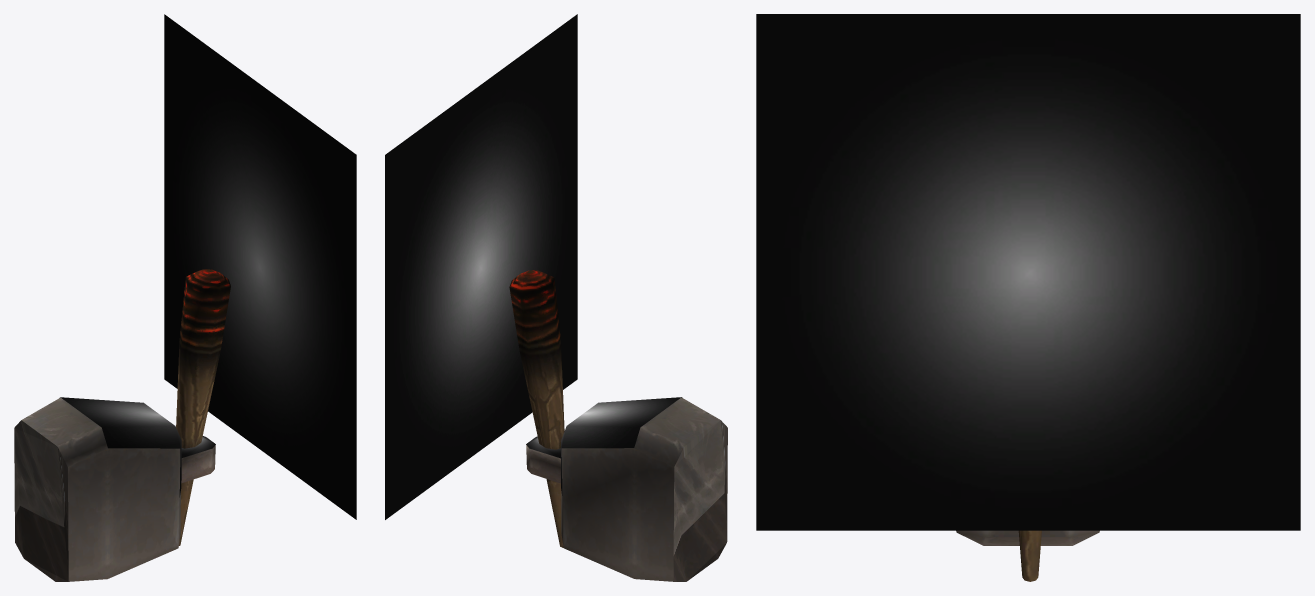
Rendered from torch.obj.
3 renders of one model, left to right at view 1: azimuth 30°, elevation 25°; view 2: azimuth 150°, elevation 25°; view 3: azimuth 270°, elevation 25°, orthographic. The views are drawn at different scales.
Parts seen in each view (by area): view 1: 1, 0; view 2: 1, 0; view 3: 1, 0.
Part boxes in pixels (x1,y1,x2,y2): 1: (60, 14, 356, 519); 0: (14, 269, 230, 581); 1: (385, 14, 682, 519); 0: (509, 270, 727, 581); 1: (756, 14, 1300, 530); 0: (956, 530, 1099, 581).
Size of the model in its own units: 0.7336 by 1.41 by 1.11.
2 materials, 2 textured.
